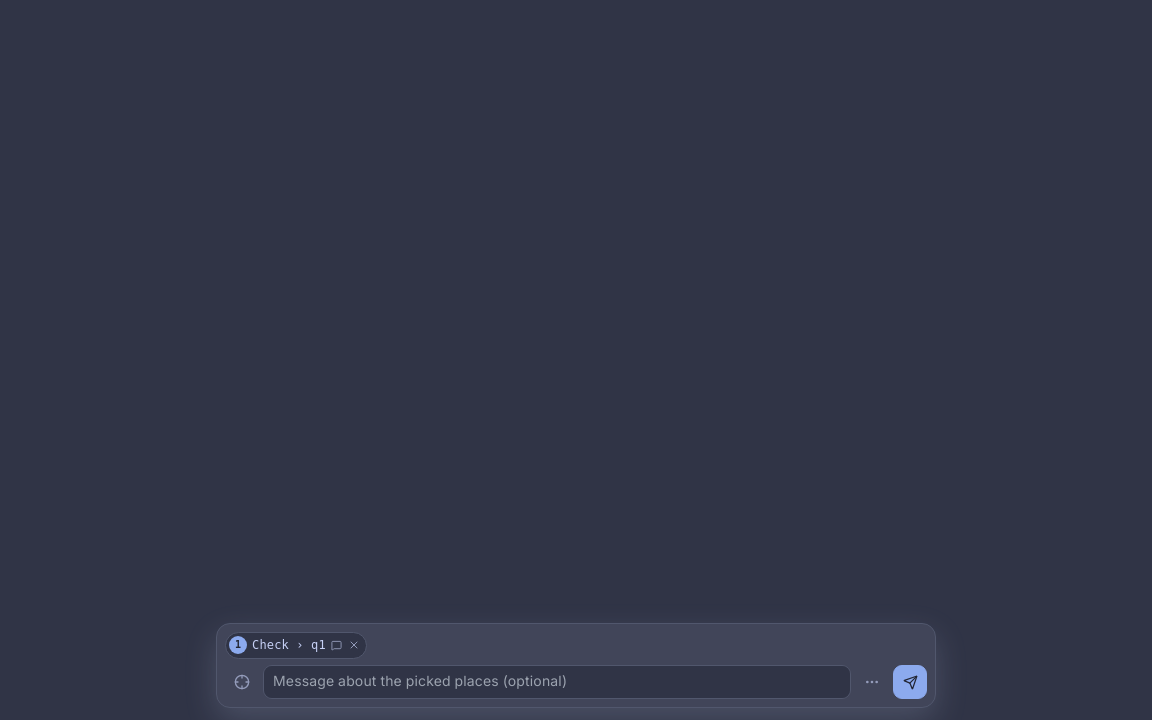
Test case: Plan card in Studio (decisions 138–139) › shows the plan, lets the model say a word, and Build these sends the ticked items
Click the button with test id "pick-send": click(910, 682) [893,665,927,699]
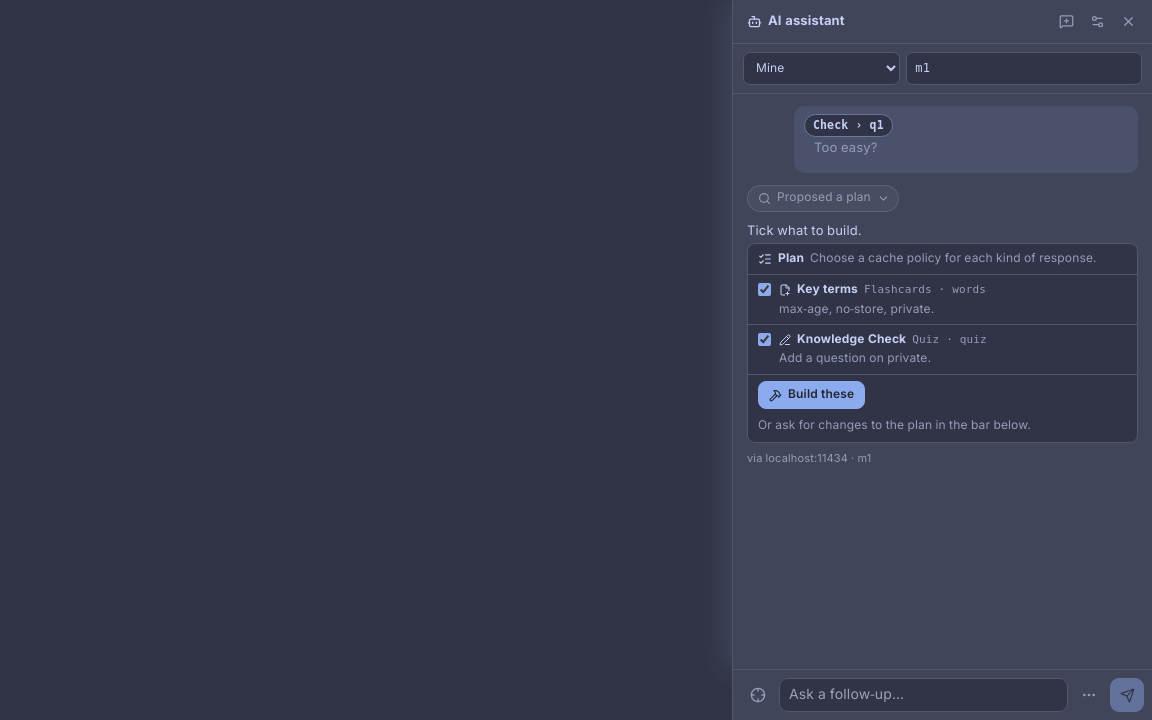
expect the element with test id "ai-activity" reads "Proposed a plan": met, box [747,185,899,212]
Click the 2nd checkbox with test id "ai-plan-tick": click(764, 339) [758,333,771,346]
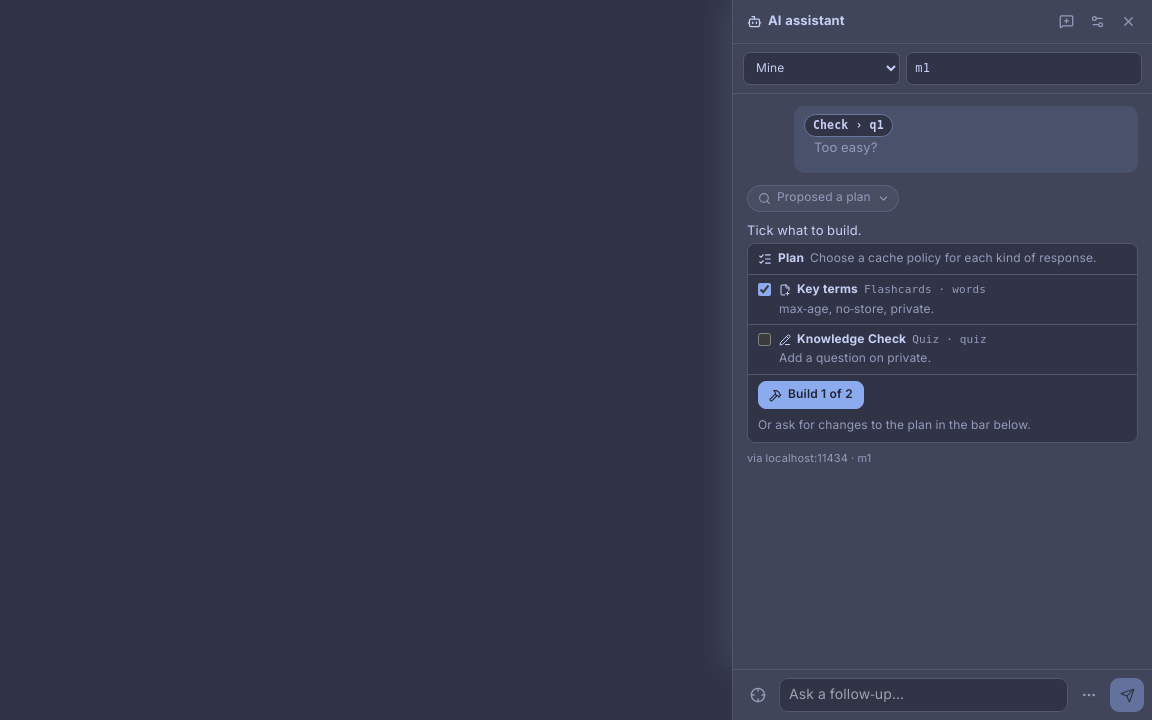
Click the button with test id "ai-plan-build": click(811, 395) [758,381,864,409]
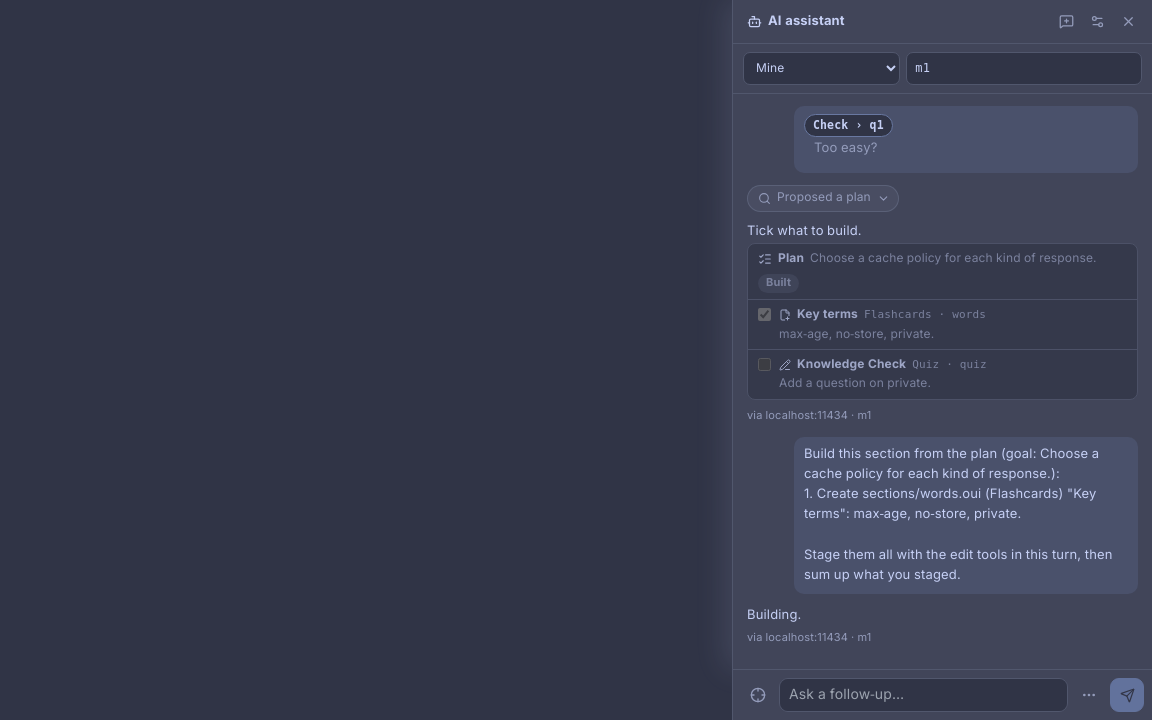
expect the number of elements with test id "ai-reply" is 2: met, box [747,185,1138,425]; [747,605,871,647]
